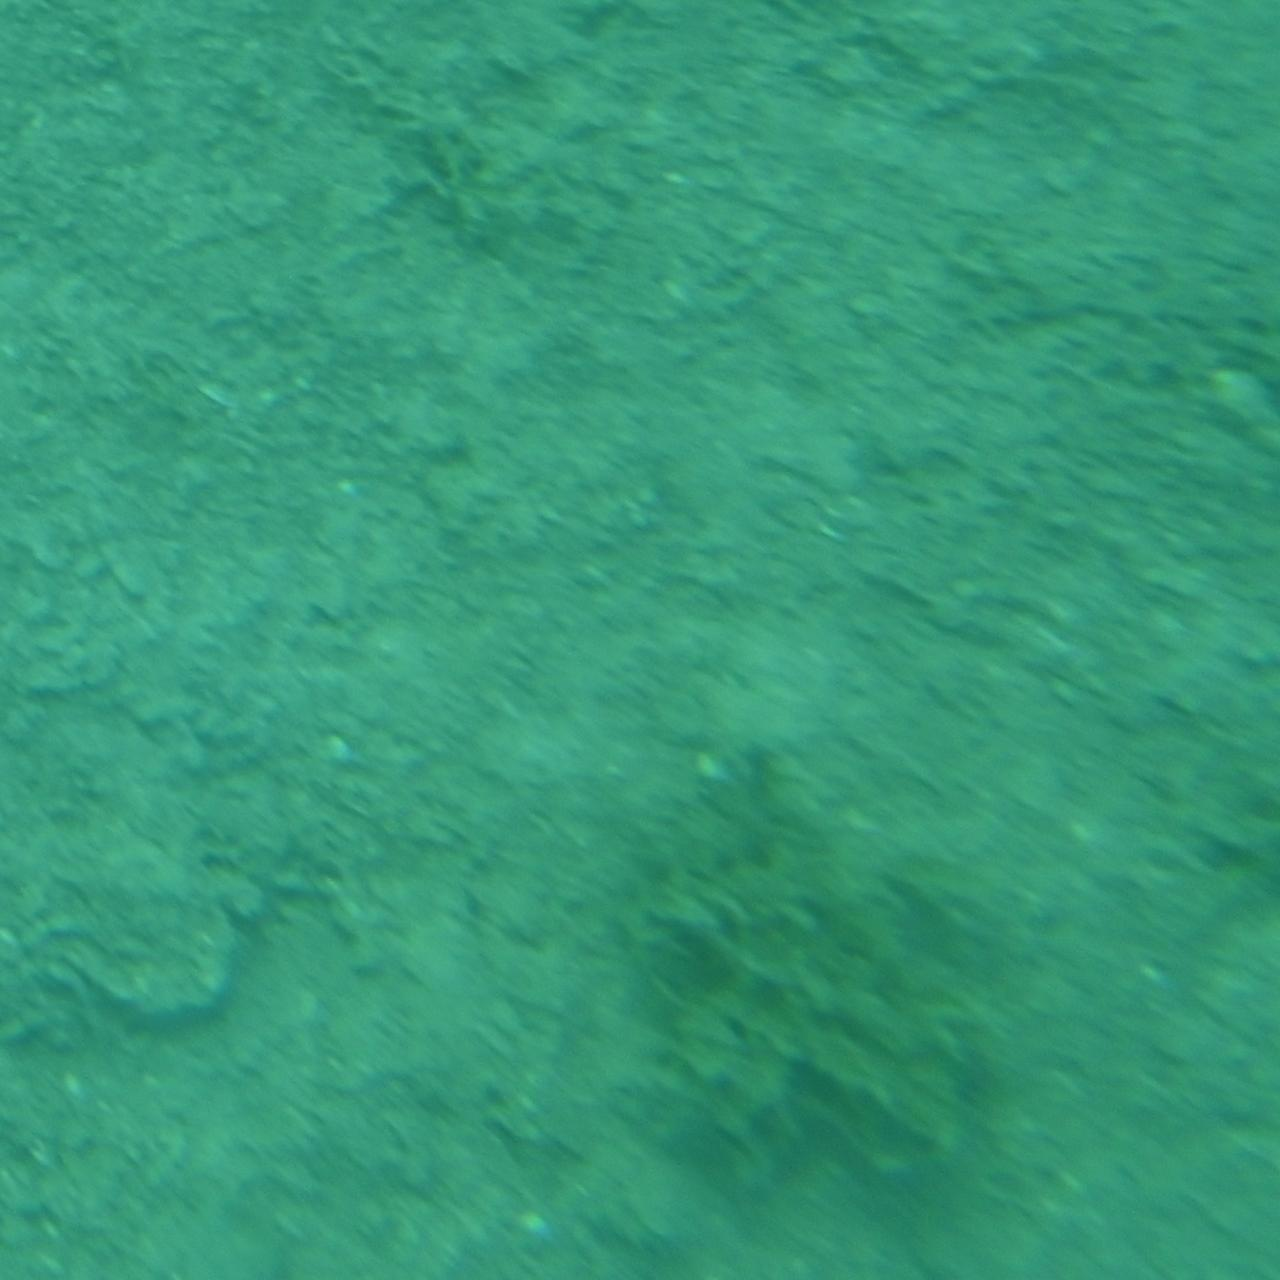Phaeophyceae -cfr Cystoseira-: (590, 750, 1014, 1186)
